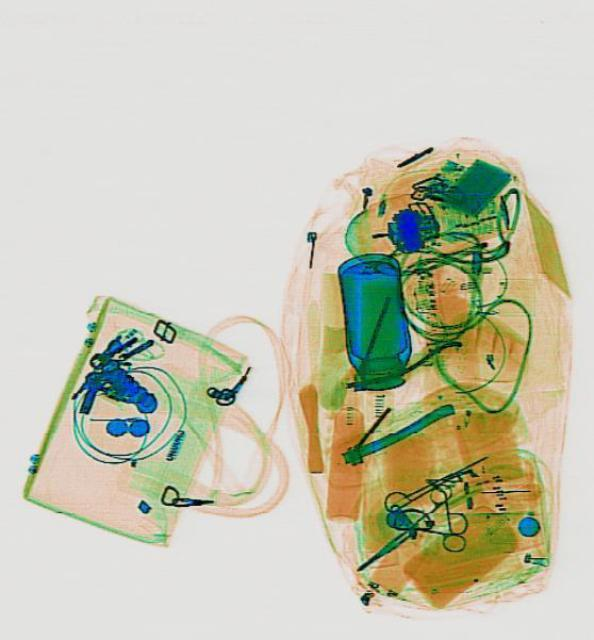Scissors: (338, 475, 475, 595)
